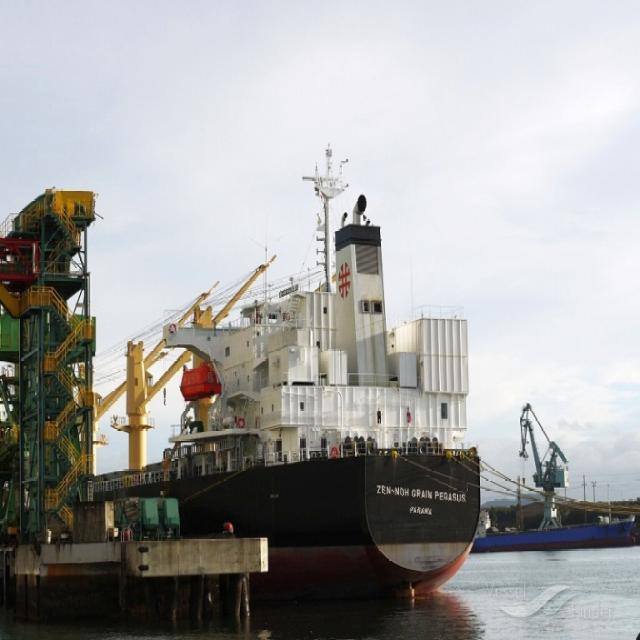OCR: (372, 469, 468, 522)
